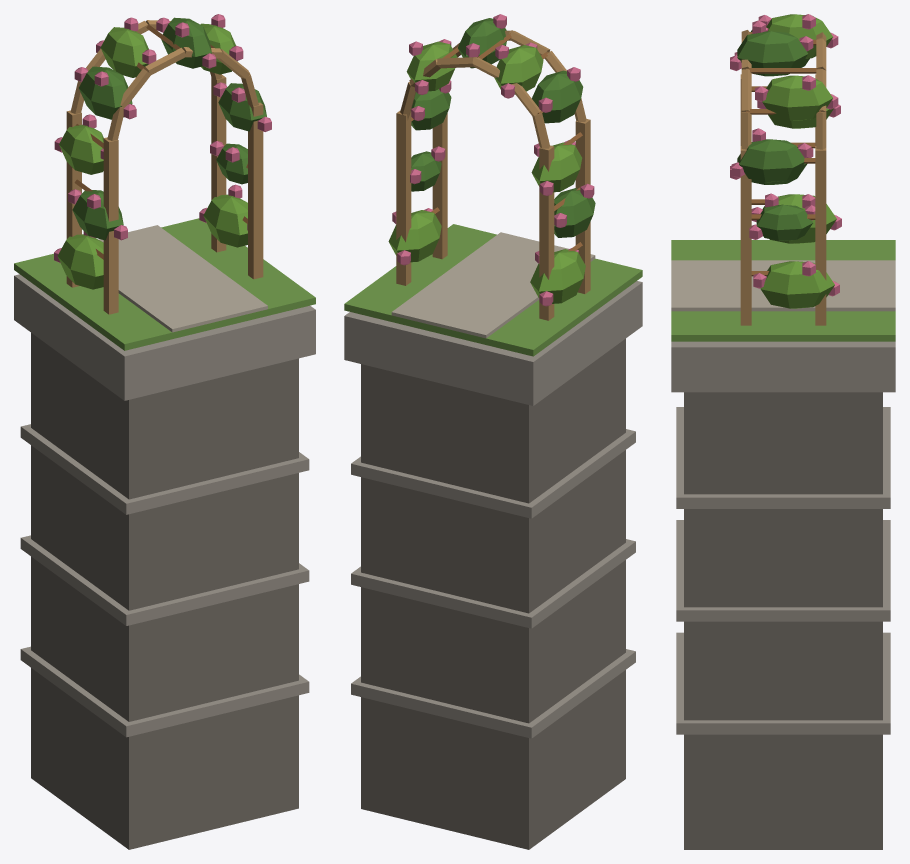
Rendered from decor_garden_arch.glb.
3 renders of one model, left to right at view 1: azimuth 30°, elevation 25°; view 2: azimuth 150°, elevation 25°; view 3: azimuth 270°, elevation 25°, orthographic. The views are drawn at different scales.
Visible parts, largest first — view 1: decor_garden_arch; view 2: decor_garden_arch; view 3: decor_garden_arch.
Part boxes in pixels (x1=…): decor_garden_arch: x1=14, y1=14, x2=315, y2=849; decor_garden_arch: x1=344, y1=14, x2=642, y2=849; decor_garden_arch: x1=671, y1=14, x2=895, y2=849.
Size of the model in its own units: 1.8 by 7 by 1.8.
